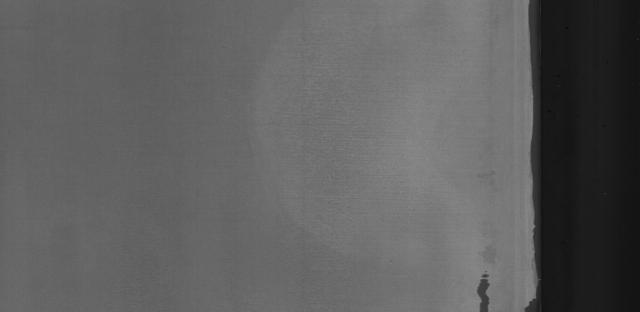oil_spot: (466, 254, 498, 312)
